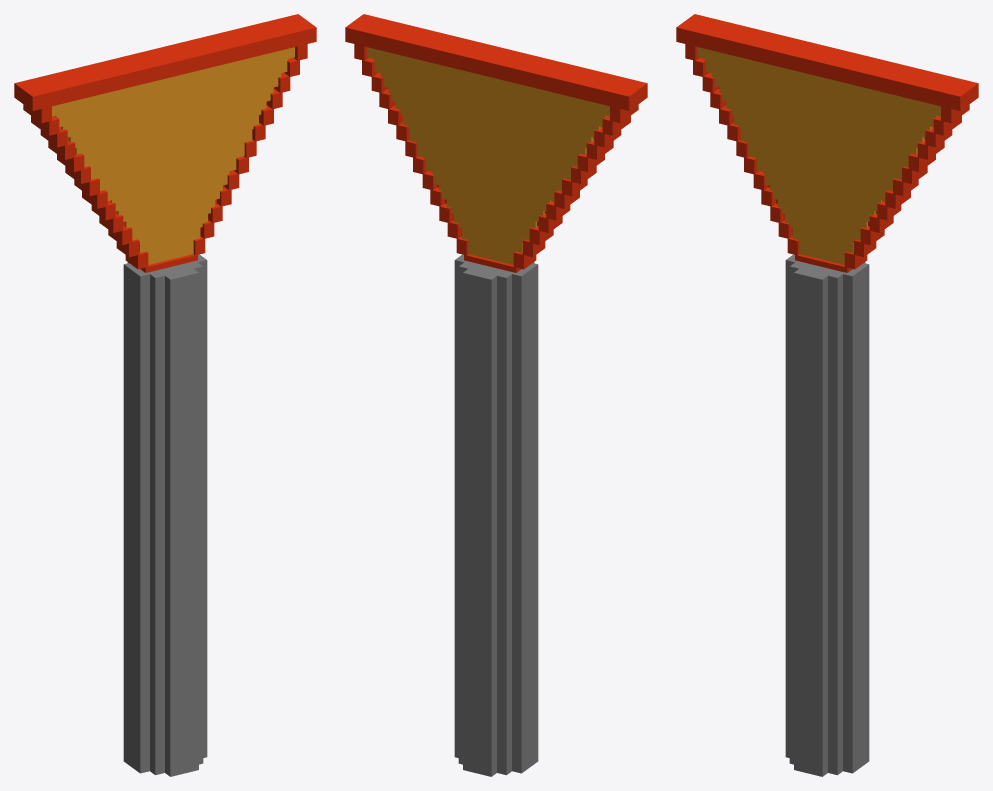
File: traffic sign.fbx
3 views of the same model, side by side, from view 1: azimuth 30°, elevation 25°; view 2: azimuth 150°, elevation 25°; view 3: azimuth 330°, elevation 25° (orthographic).
Parts seen in each view (by area): view 1: Cube.004, Cube.005, Cube.003; view 2: Cube.004, Cube.005, Cube.003; view 3: Cube.004, Cube.005, Cube.003.
Part boxes in pixels (<box>): Cube.004: <box>123,254,207,776</box>; Cube.005: <box>52,47,294,264</box>; Cube.003: <box>14,14,316,272</box>; Cube.004: <box>454,254,538,776</box>; Cube.005: <box>367,47,609,264</box>; Cube.003: <box>345,14,647,272</box>; Cube.004: <box>785,254,869,776</box>; Cube.005: <box>698,47,940,264</box>; Cube.003: <box>676,14,978,272</box>.
Size of the model in its own units: 291 by 689 by 68.53.
